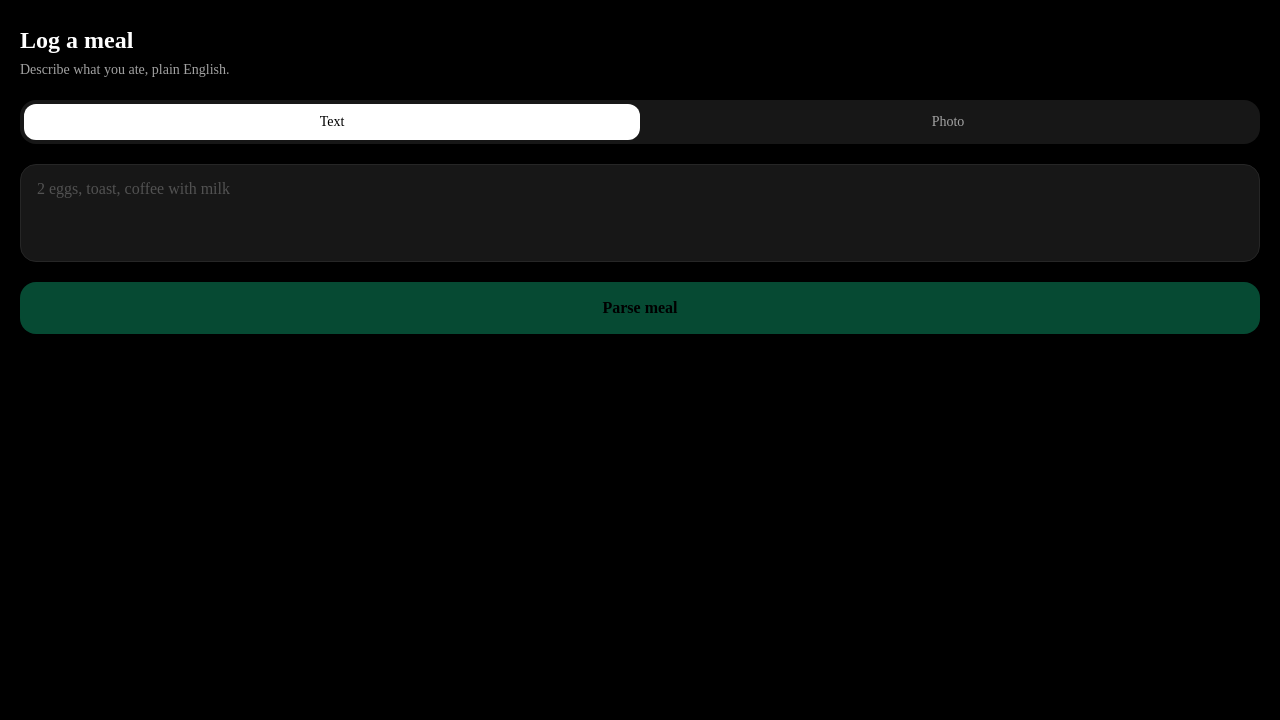
Test: LogScreen — BUG-03 stale parse result after text edit › keeps only the latest request's result when two parses race out of order
This screenshot has width=1280, height=720.
Note: Request A: parse "text a".
Type "text a" into the text box with placeholder "2 eggs, toast, coffee with milk". click: x=640, y=213
box: [20,164,1260,262]
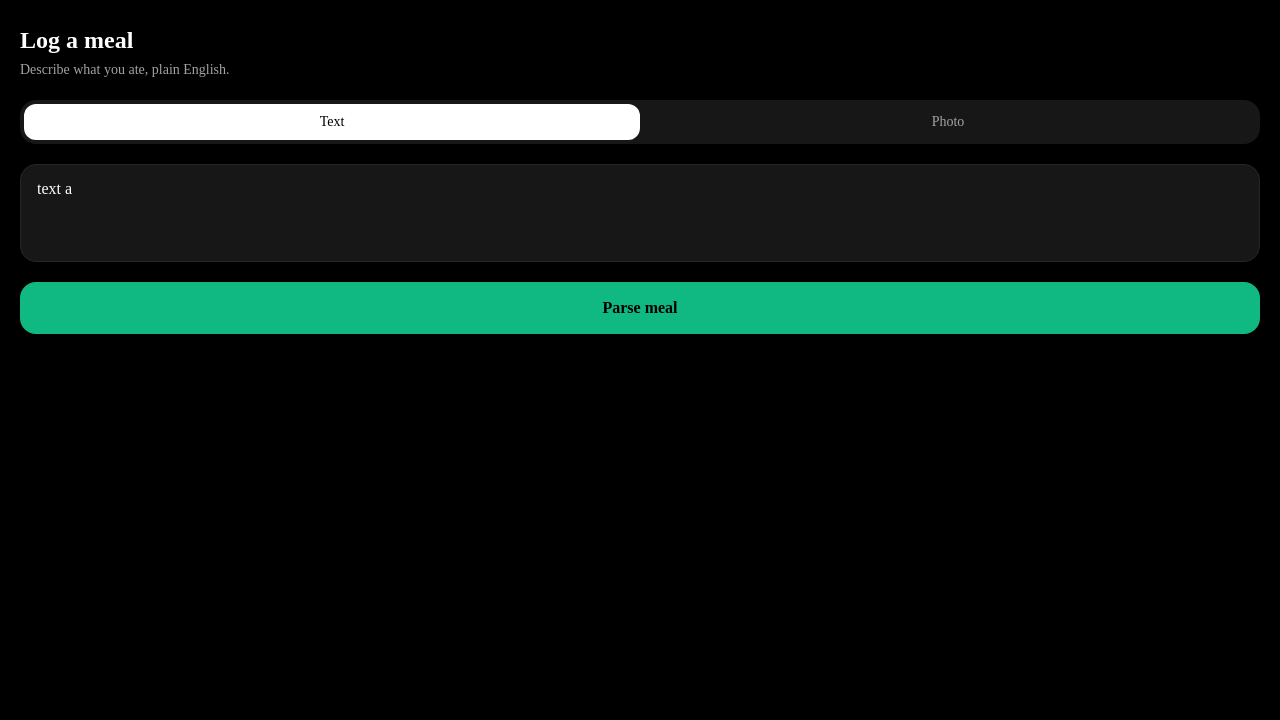
Click the button "Parse meal". click: x=640, y=308
box: [20,282,1260,334]
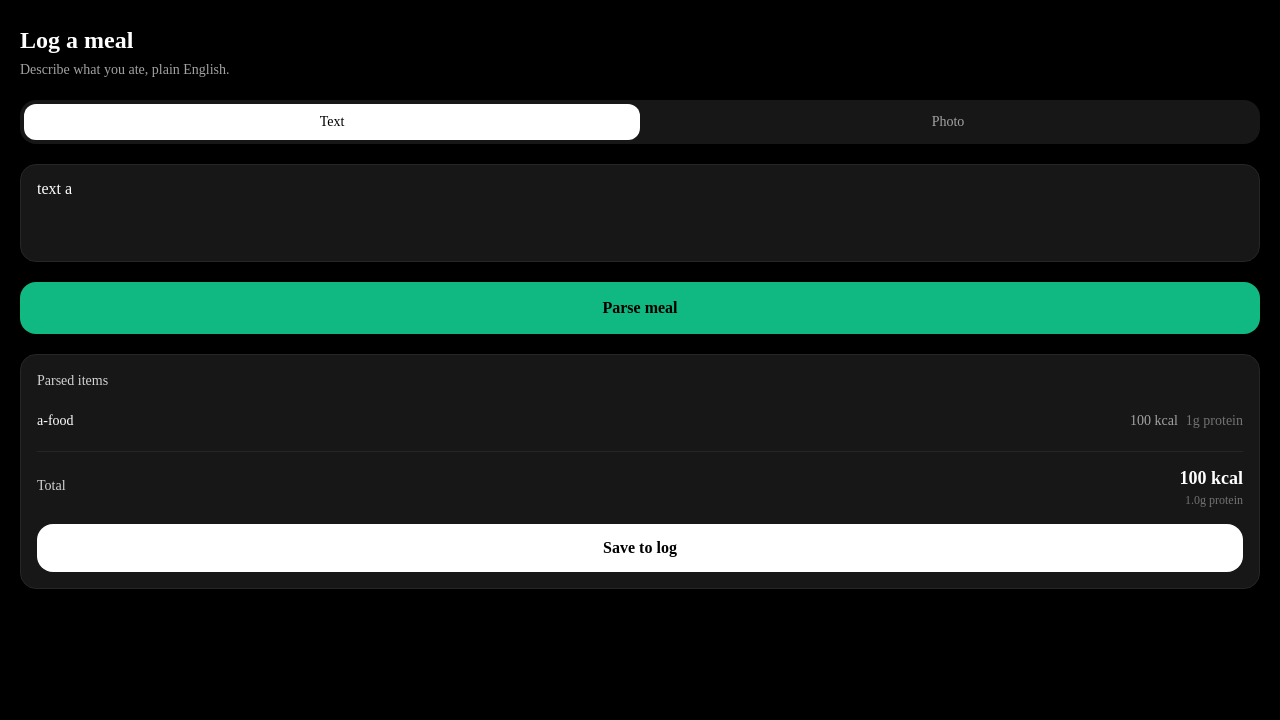
Check: the text "a-food" is shown, box [37,411,74,431]
Replace the text in the text box with placeholder "2 eggs, toast, coffee with milk" with "text b". click: x=640, y=213
box: [20,164,1260,262]
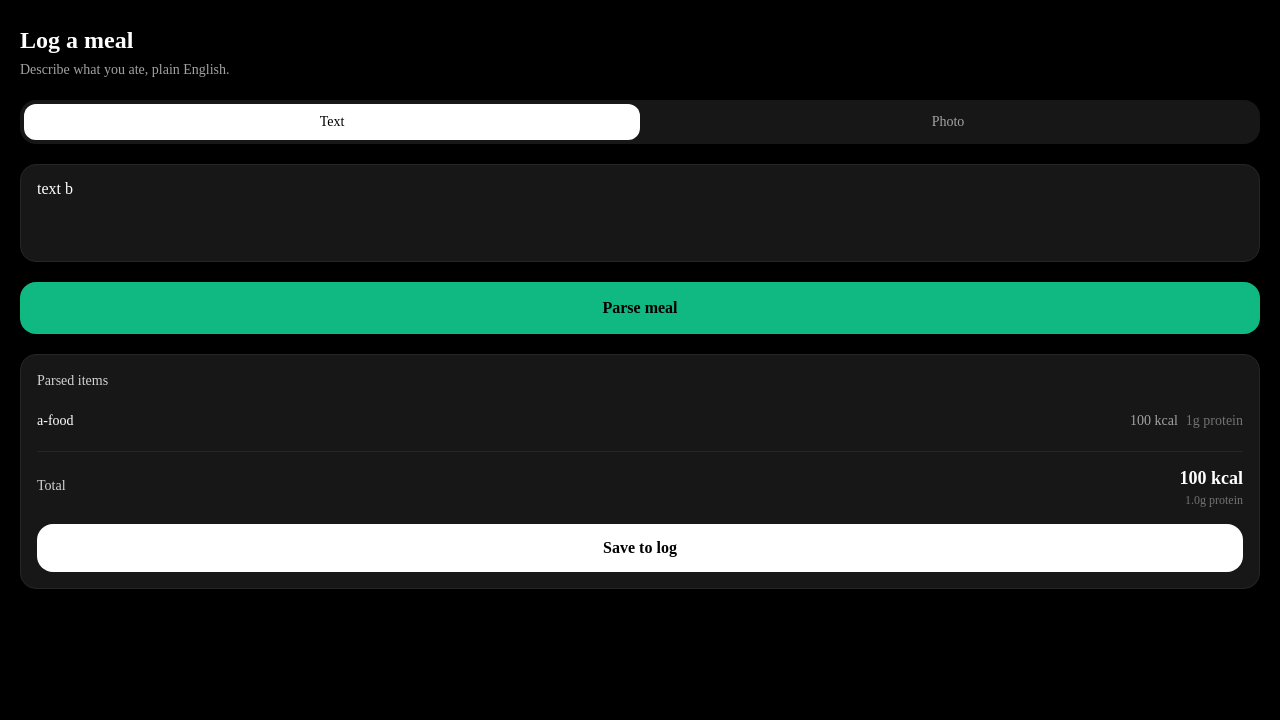
Click the button "Parse meal". click: x=640, y=308
box: [20,282,1260,334]
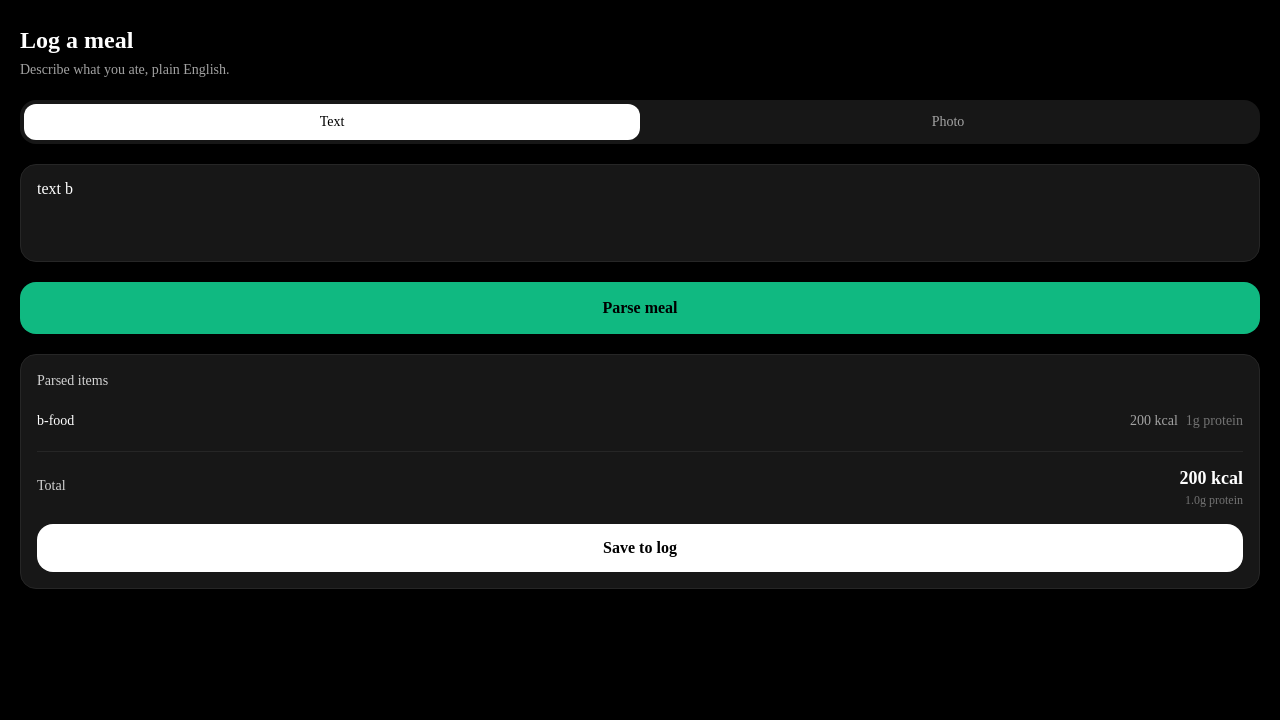
Check: the text "b-food" is shown, box [37,411,74,431]
Check: the text "a-food" is gone
